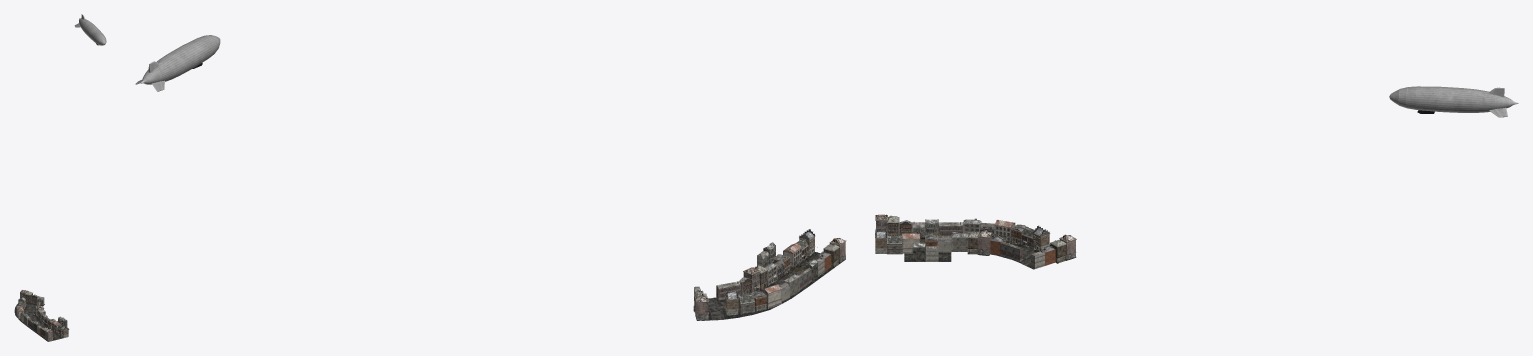
The model's file is town-world.glb.
3 views of the same model, side by side, from view 1: azimuth 30°, elevation 25°; view 2: azimuth 150°, elevation 25°; view 3: azimuth 270°, elevation 25° (orthographic). The views are drawn at different scales.
Parts seen in each view (by area): view 1: zeppelin_0, ground3_0, bat1-structure_0, ground1_0, bat2-structure_0, ground2_0, bat12-structure_0, bat5-structure_0; view 2: zeppelin_0, bat1-structure_0, ground3_0; view 3: zeppelin_0, bat1-structure_0, bat2-structure_0.
Part boxes in pixels (x1=…): zeppelin_0: x1=74, y1=14, x2=106, y2=45; ground3_0: x1=14, y1=302, x2=44, y2=315; bat1-structure_0: x1=20, y1=290, x2=52, y2=341; ground1_0: x1=29, y1=321, x2=69, y2=341; bat2-structure_0: x1=25, y1=293, x2=45, y2=339; ground2_0: x1=15, y1=314, x2=43, y2=327; bat12-structure_0: x1=18, y1=300, x2=68, y2=337; bat5-structure_0: x1=33, y1=317, x2=67, y2=331; zeppelin_0: x1=135, y1=35, x2=220, y2=91; bat1-structure_0: x1=695, y1=240, x2=846, y2=320; ground3_0: x1=702, y1=297, x2=769, y2=320; zeppelin_0: x1=1389, y1=86, x2=1518, y2=117; bat1-structure_0: x1=875, y1=215, x2=1076, y2=260; bat2-structure_0: x1=887, y1=223, x2=1067, y2=263.
Bounding box in the file's own units: 264 × 212 × 371.
Materials: 71 (69 with a texture image).
